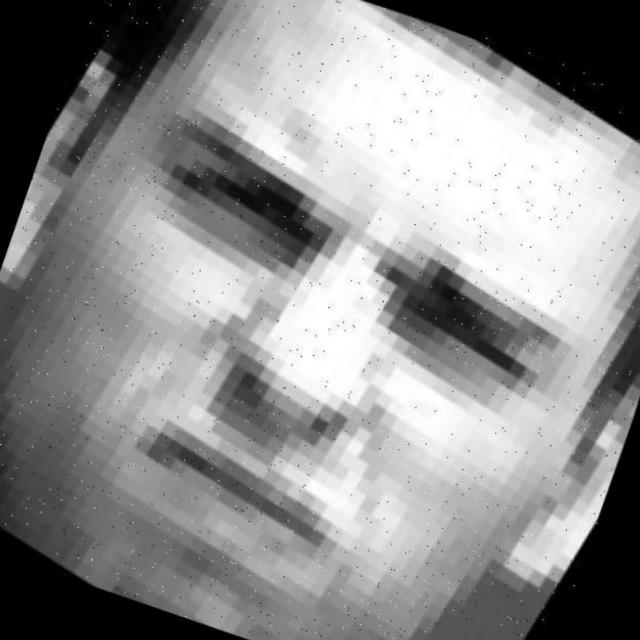Angry: (8, 11, 640, 640)
